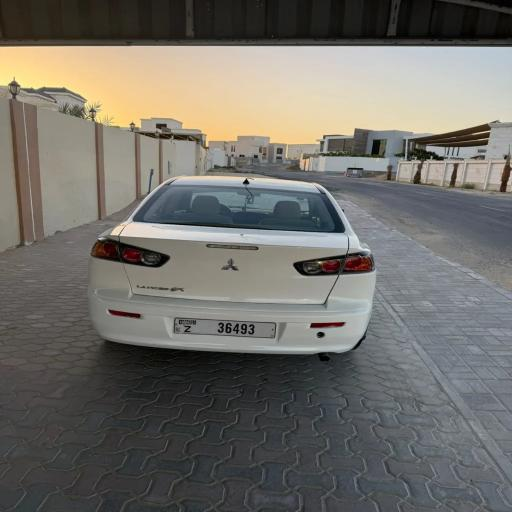license-plates: (174, 318, 276, 339)
